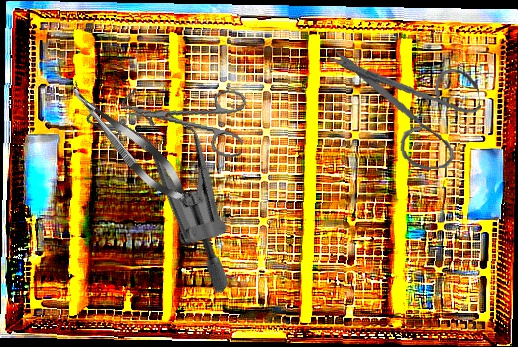Iris Scissors: (325, 30, 488, 181), (120, 73, 251, 160)
Micro Scissor: (58, 73, 198, 213)
Speculum: (37, 67, 293, 298)
